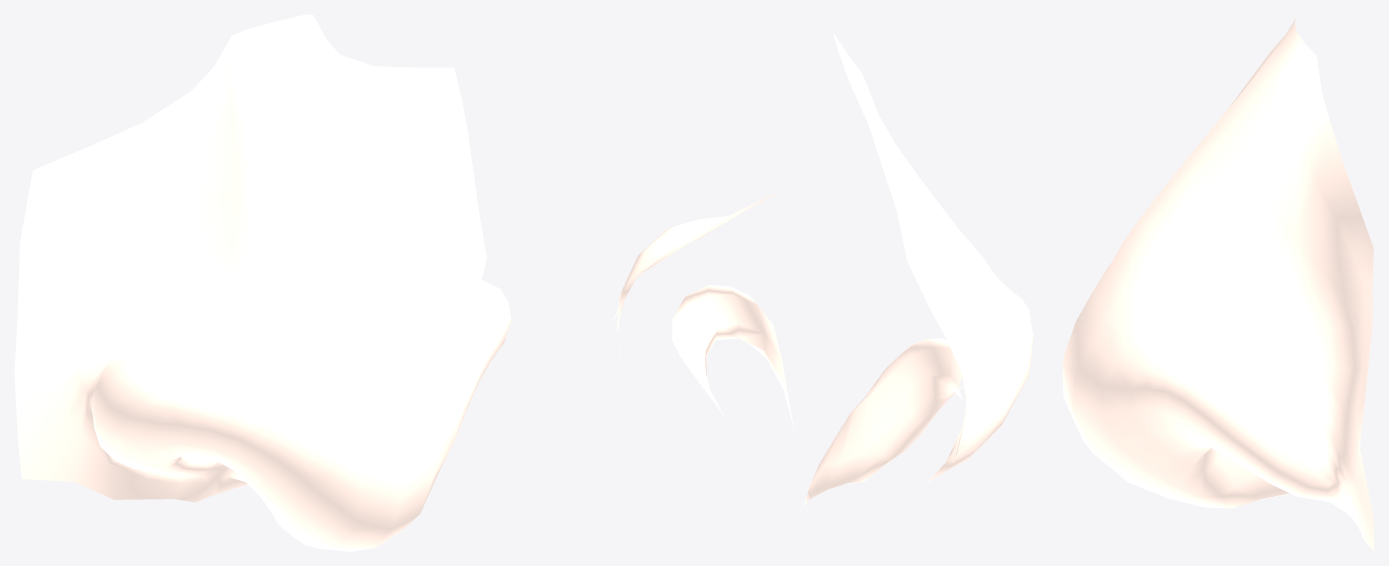
File: nose_06.glb
3 renders of one model, left to right at view 1: azimuth 30°, elevation 25°; view 2: azimuth 150°, elevation 25°; view 3: azimuth 270°, elevation 25°, orthographic. The views are drawn at different scales.
Parts seen in each view (by area): view 1: nose_06; view 2: nose_06; view 3: nose_06.
Part boxes in pixels (x1,y1,x2,y2): nose_06: (14, 14, 511, 551); nose_06: (611, 33, 1033, 513); nose_06: (1062, 17, 1374, 551).
Bounding box in the file's own units: 0.00107 × 0.00109 × 0.000631.
